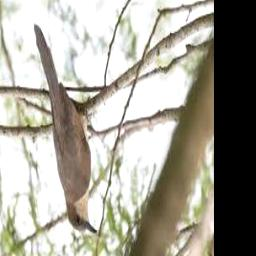Cuckoo: (34, 25, 97, 234)
